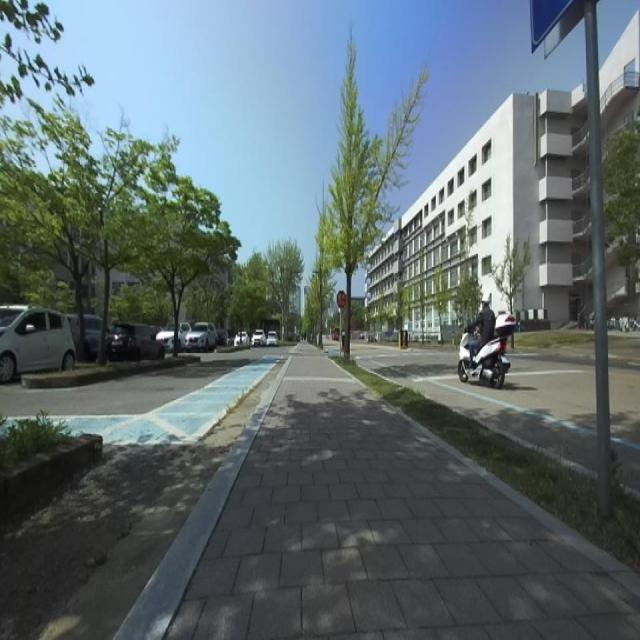sidewalk: (168, 344, 640, 639), (114, 356, 292, 640)
